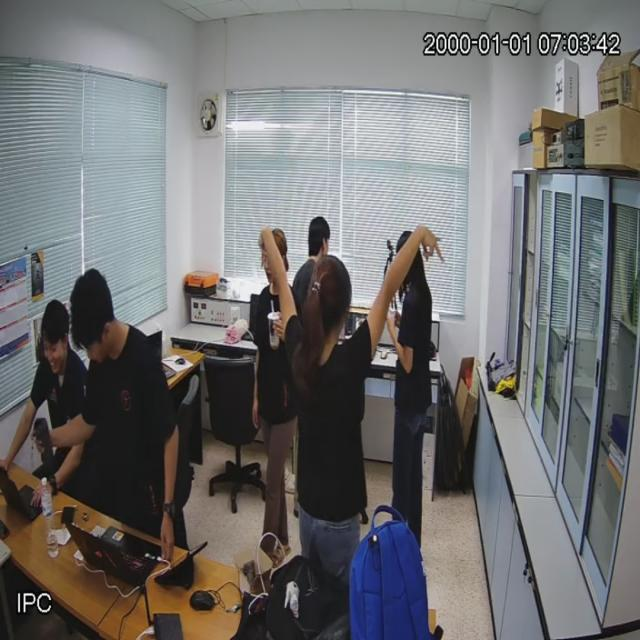normal: (76, 273, 186, 542), (291, 261, 367, 554), (253, 228, 288, 556), (396, 238, 431, 546), (24, 298, 82, 476)
